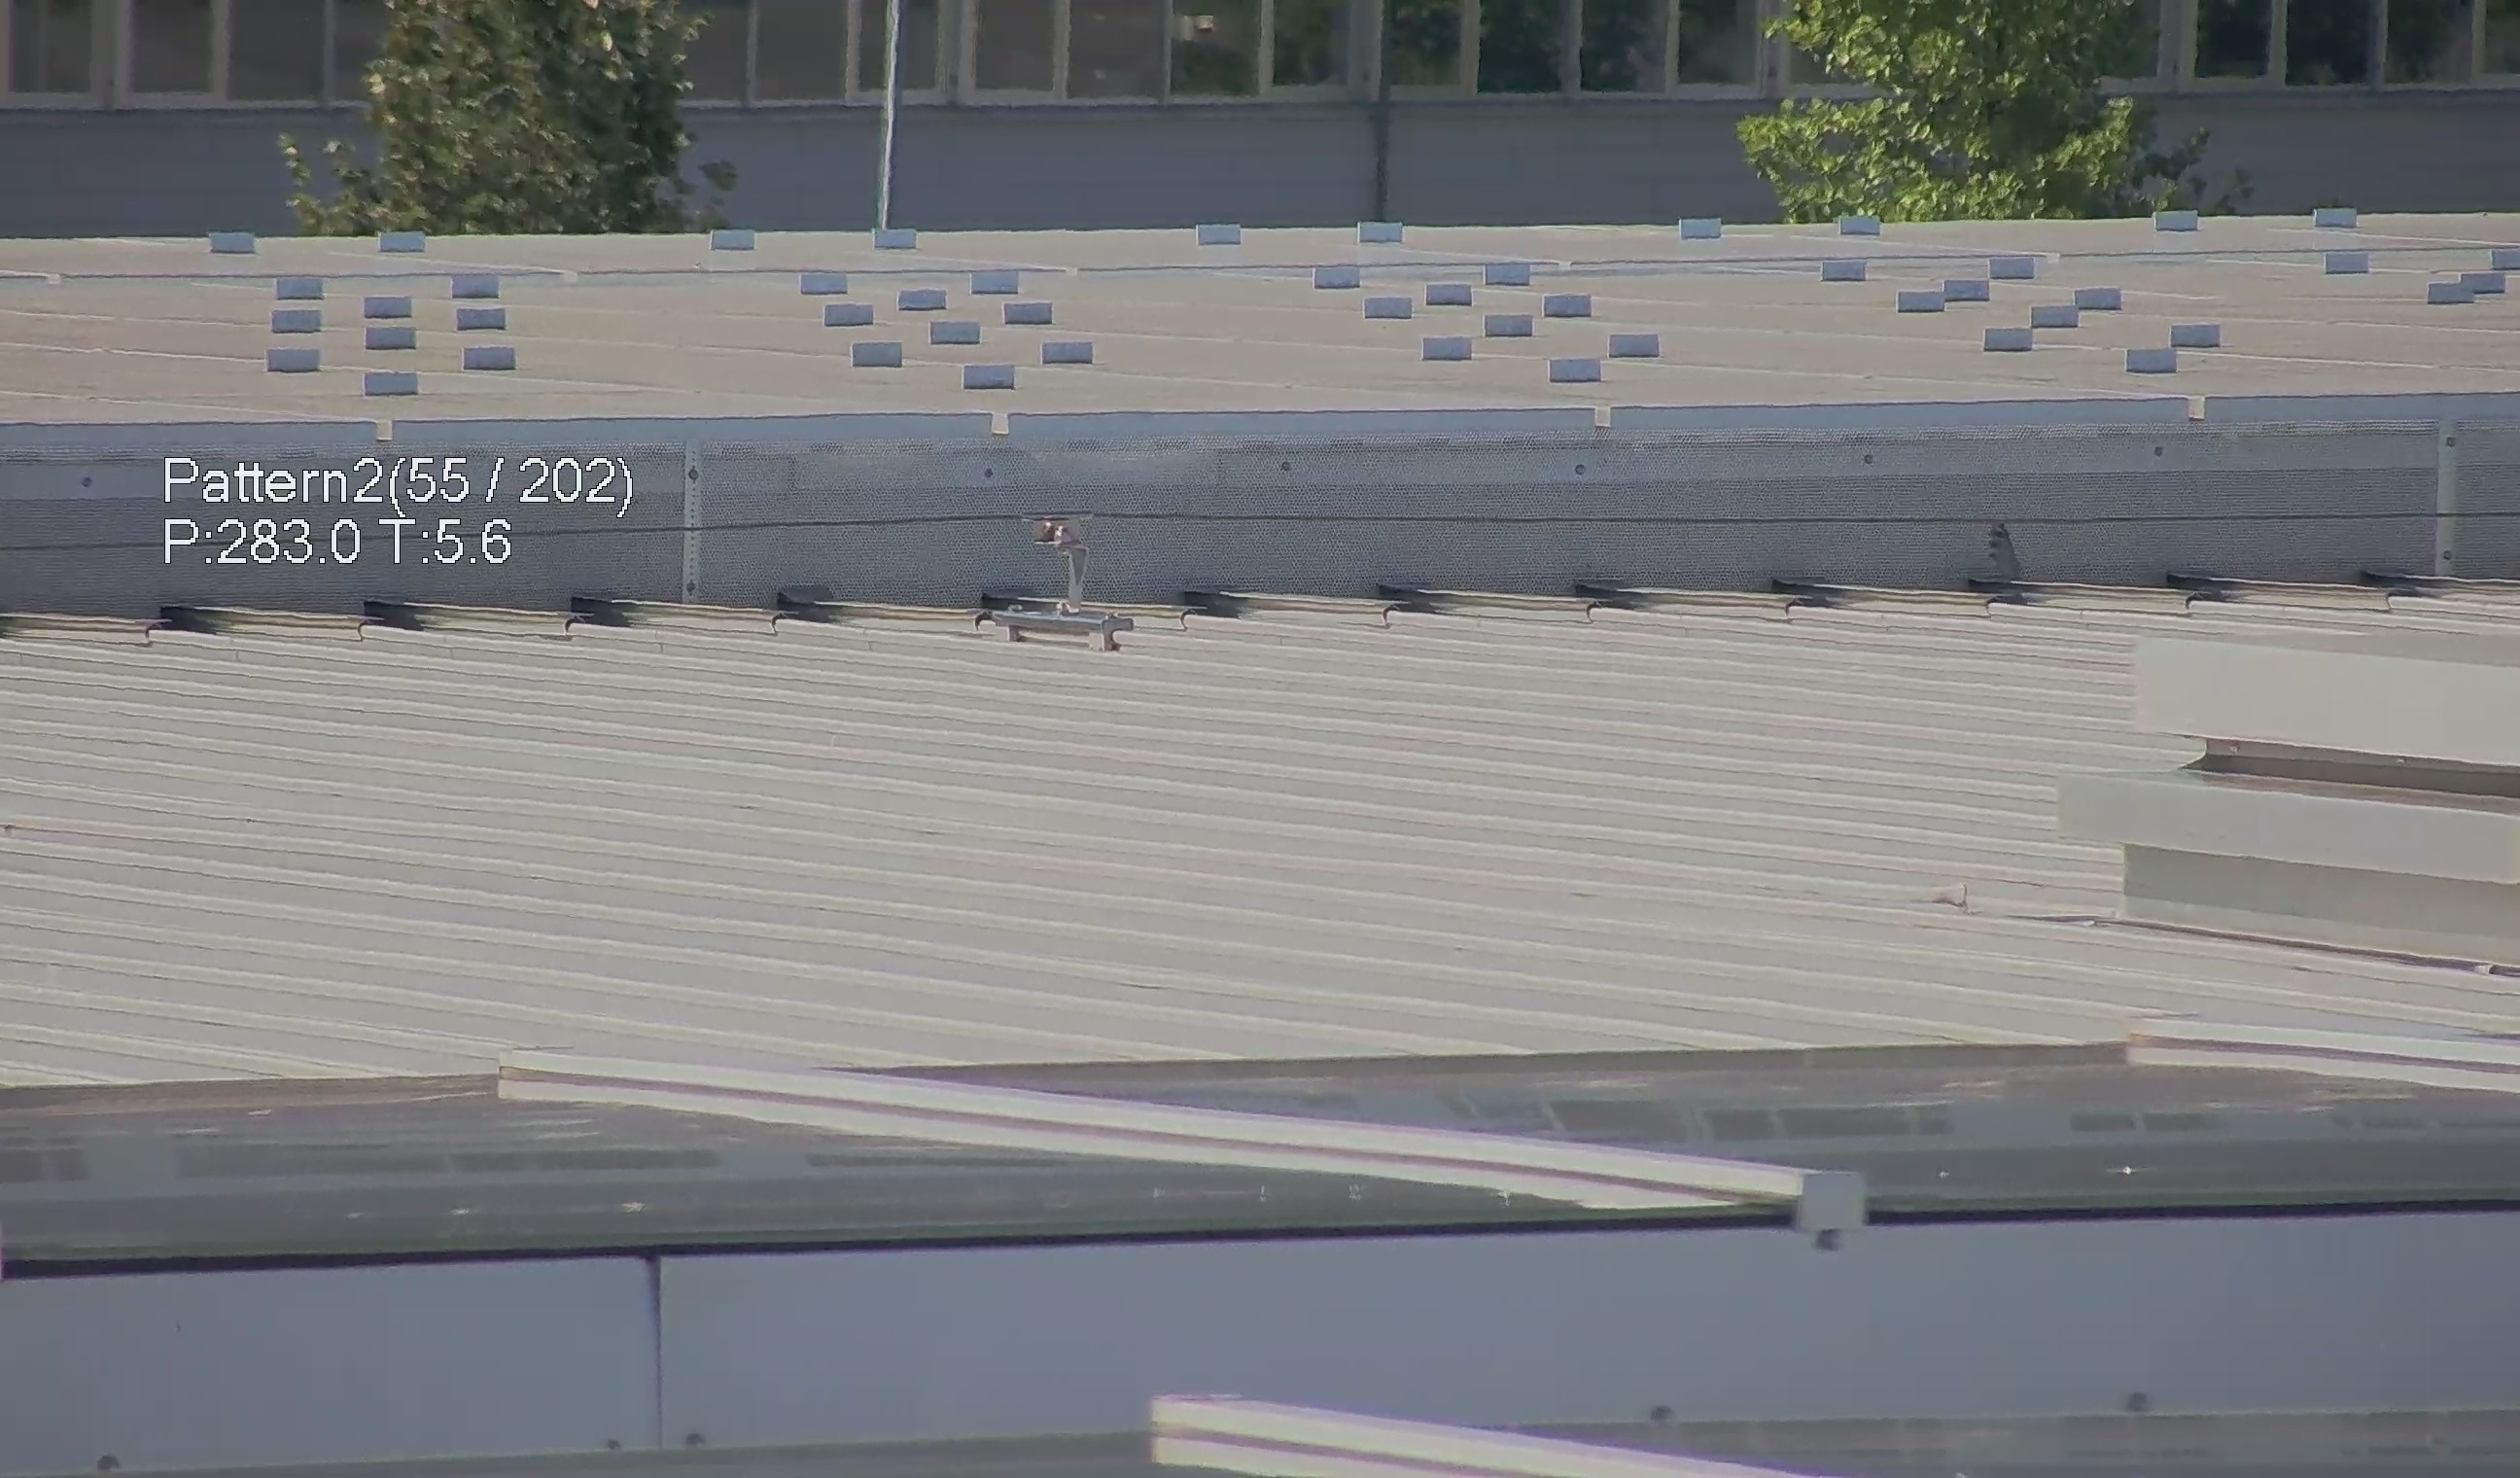Other: (1975, 500, 2056, 607)
